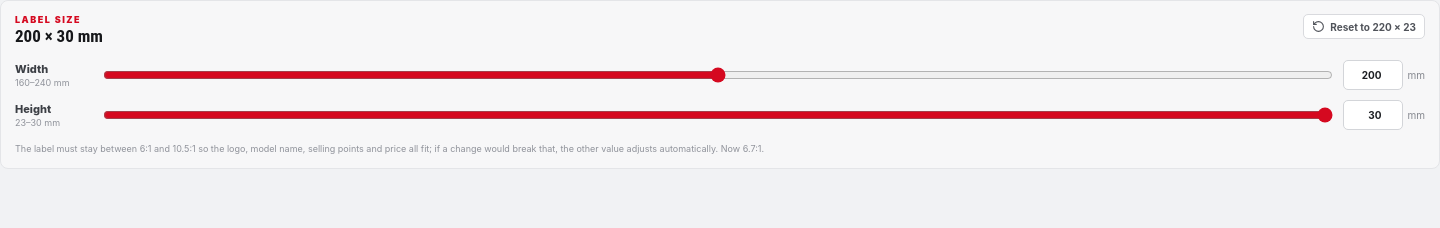
Test case: label size controls › adjusts the other value and says so when a change would break the aspect ratio
Set the slider named "Width slider" to "170". click: (263, 75)
box: [103,67,1333,83]
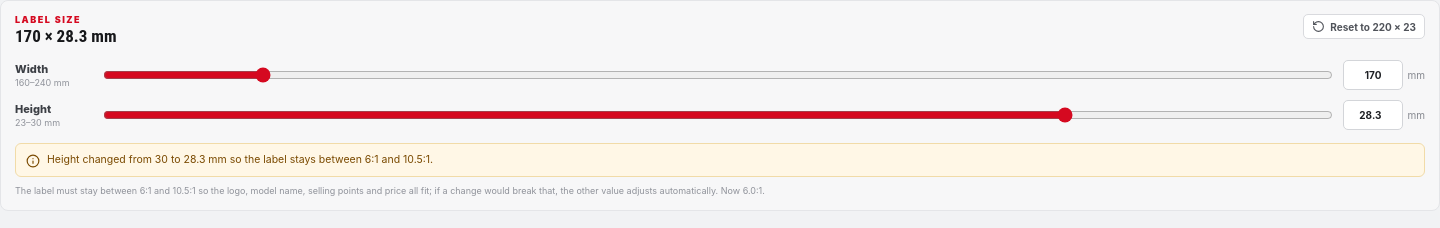
Check: the number field named "Width in millimetres" holds "170", box [1343,60,1404,90]
Check: the number field named "Height in millimetres" holds "28.3", box [1343,100,1404,130]
Check: the message shows "Height changed from 30 to 28.3 mm", box [47,153,433,166]
